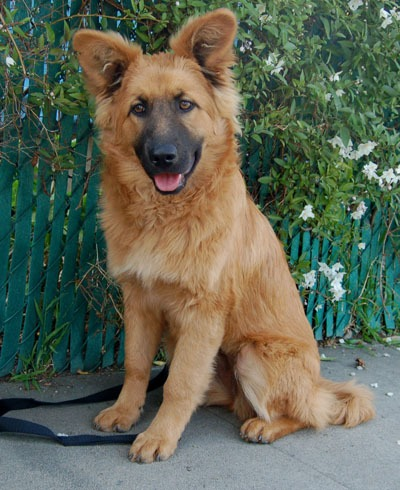dog: (95, 20, 365, 464)
